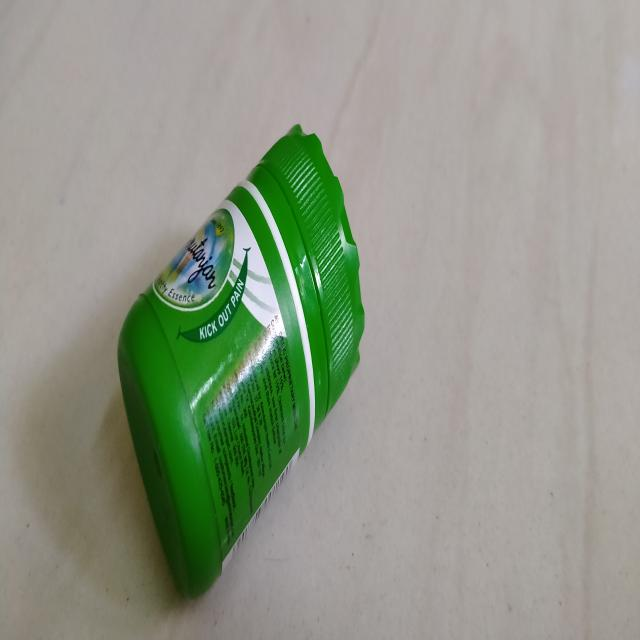eucalyptus oil: (117, 120, 366, 587)
